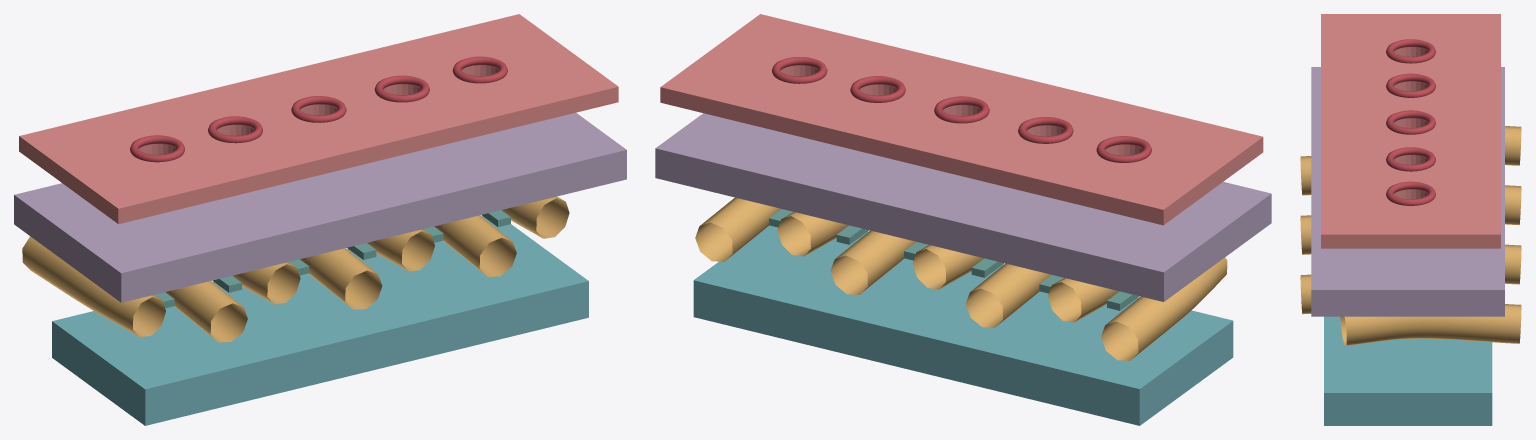
Rendered from filtration-barrier.glb.
3 renders of one model, left to right at view 1: azimuth 30°, elevation 25°; view 2: azimuth 150°, elevation 25°; view 3: azimuth 270°, elevation 25°, orthographic. The views are drawn at different scales.
Visible parts, largest first — view 1: endothelium, basement_membrane, capsular_space, podocyte_foot_processes, fenestrae, filtration_slits; view 2: endothelium, basement_membrane, capsular_space, podocyte_foot_processes, fenestrae, filtration_slits; view 3: endothelium, basement_membrane, capsular_space, podocyte_foot_processes, fenestrae.
Part boxes in pixels (x1,y1,x2,y2): endothelium: (19,14,618,224); basement_membrane: (14,112,626,302); capsular_space: (52,216,588,425); podocyte_foot_processes: (22,196,569,342); fenestrae: (130,56,507,162); filtration_slits: (154,210,510,308); endothelium: (660,14,1263,225); basement_membrane: (655,113,1271,301); capsular_space: (693,225,1233,425); podocyte_foot_processes: (695,197,1227,360); fenestrae: (772,57,1151,162); filtration_slits: (769,209,1139,310); endothelium: (1321,14,1500,248); basement_membrane: (1311,67,1504,316); capsular_space: (1324,316,1492,425); podocyte_foot_processes: (1300,126,1521,345); fenestrae: (1386,39,1435,205).
Size of the model in its own units: 1.88 by 0.8188 by 0.7872.
